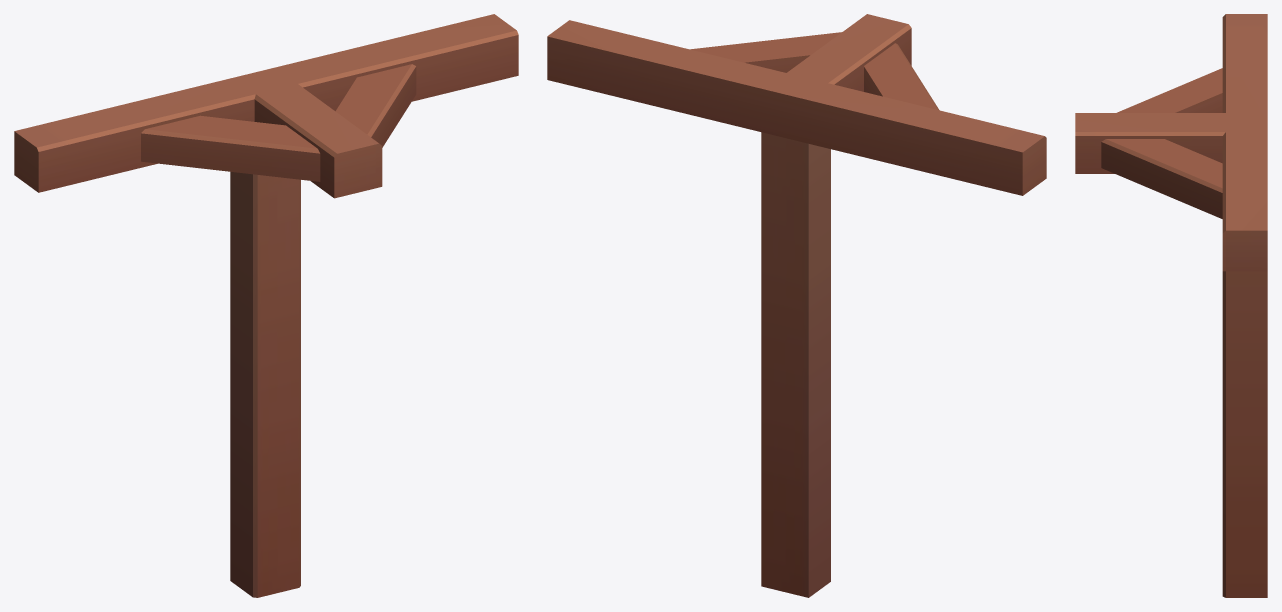
Rendered from scaffold_pillar_wall_cross_top.glb.
3 views of the same model, side by side, from view 1: azimuth 30°, elevation 25°; view 2: azimuth 150°, elevation 25°; view 3: azimuth 270°, elevation 25° (orthographic). The views are drawn at different scales.
Parts seen in each view (by area): view 1: scaffold_pillar_wall_cross_top; view 2: scaffold_pillar_wall_cross_top; view 3: scaffold_pillar_wall_cross_top.
Boxes of the visible parts, bbox=[...] form: scaffold_pillar_wall_cross_top: bbox=[14, 14, 518, 597]; scaffold_pillar_wall_cross_top: bbox=[547, 14, 1046, 597]; scaffold_pillar_wall_cross_top: bbox=[1075, 14, 1267, 597].
Size of the model in its own units: 4 by 4 by 1.5.
Materials: 1 (1 with a texture image).
